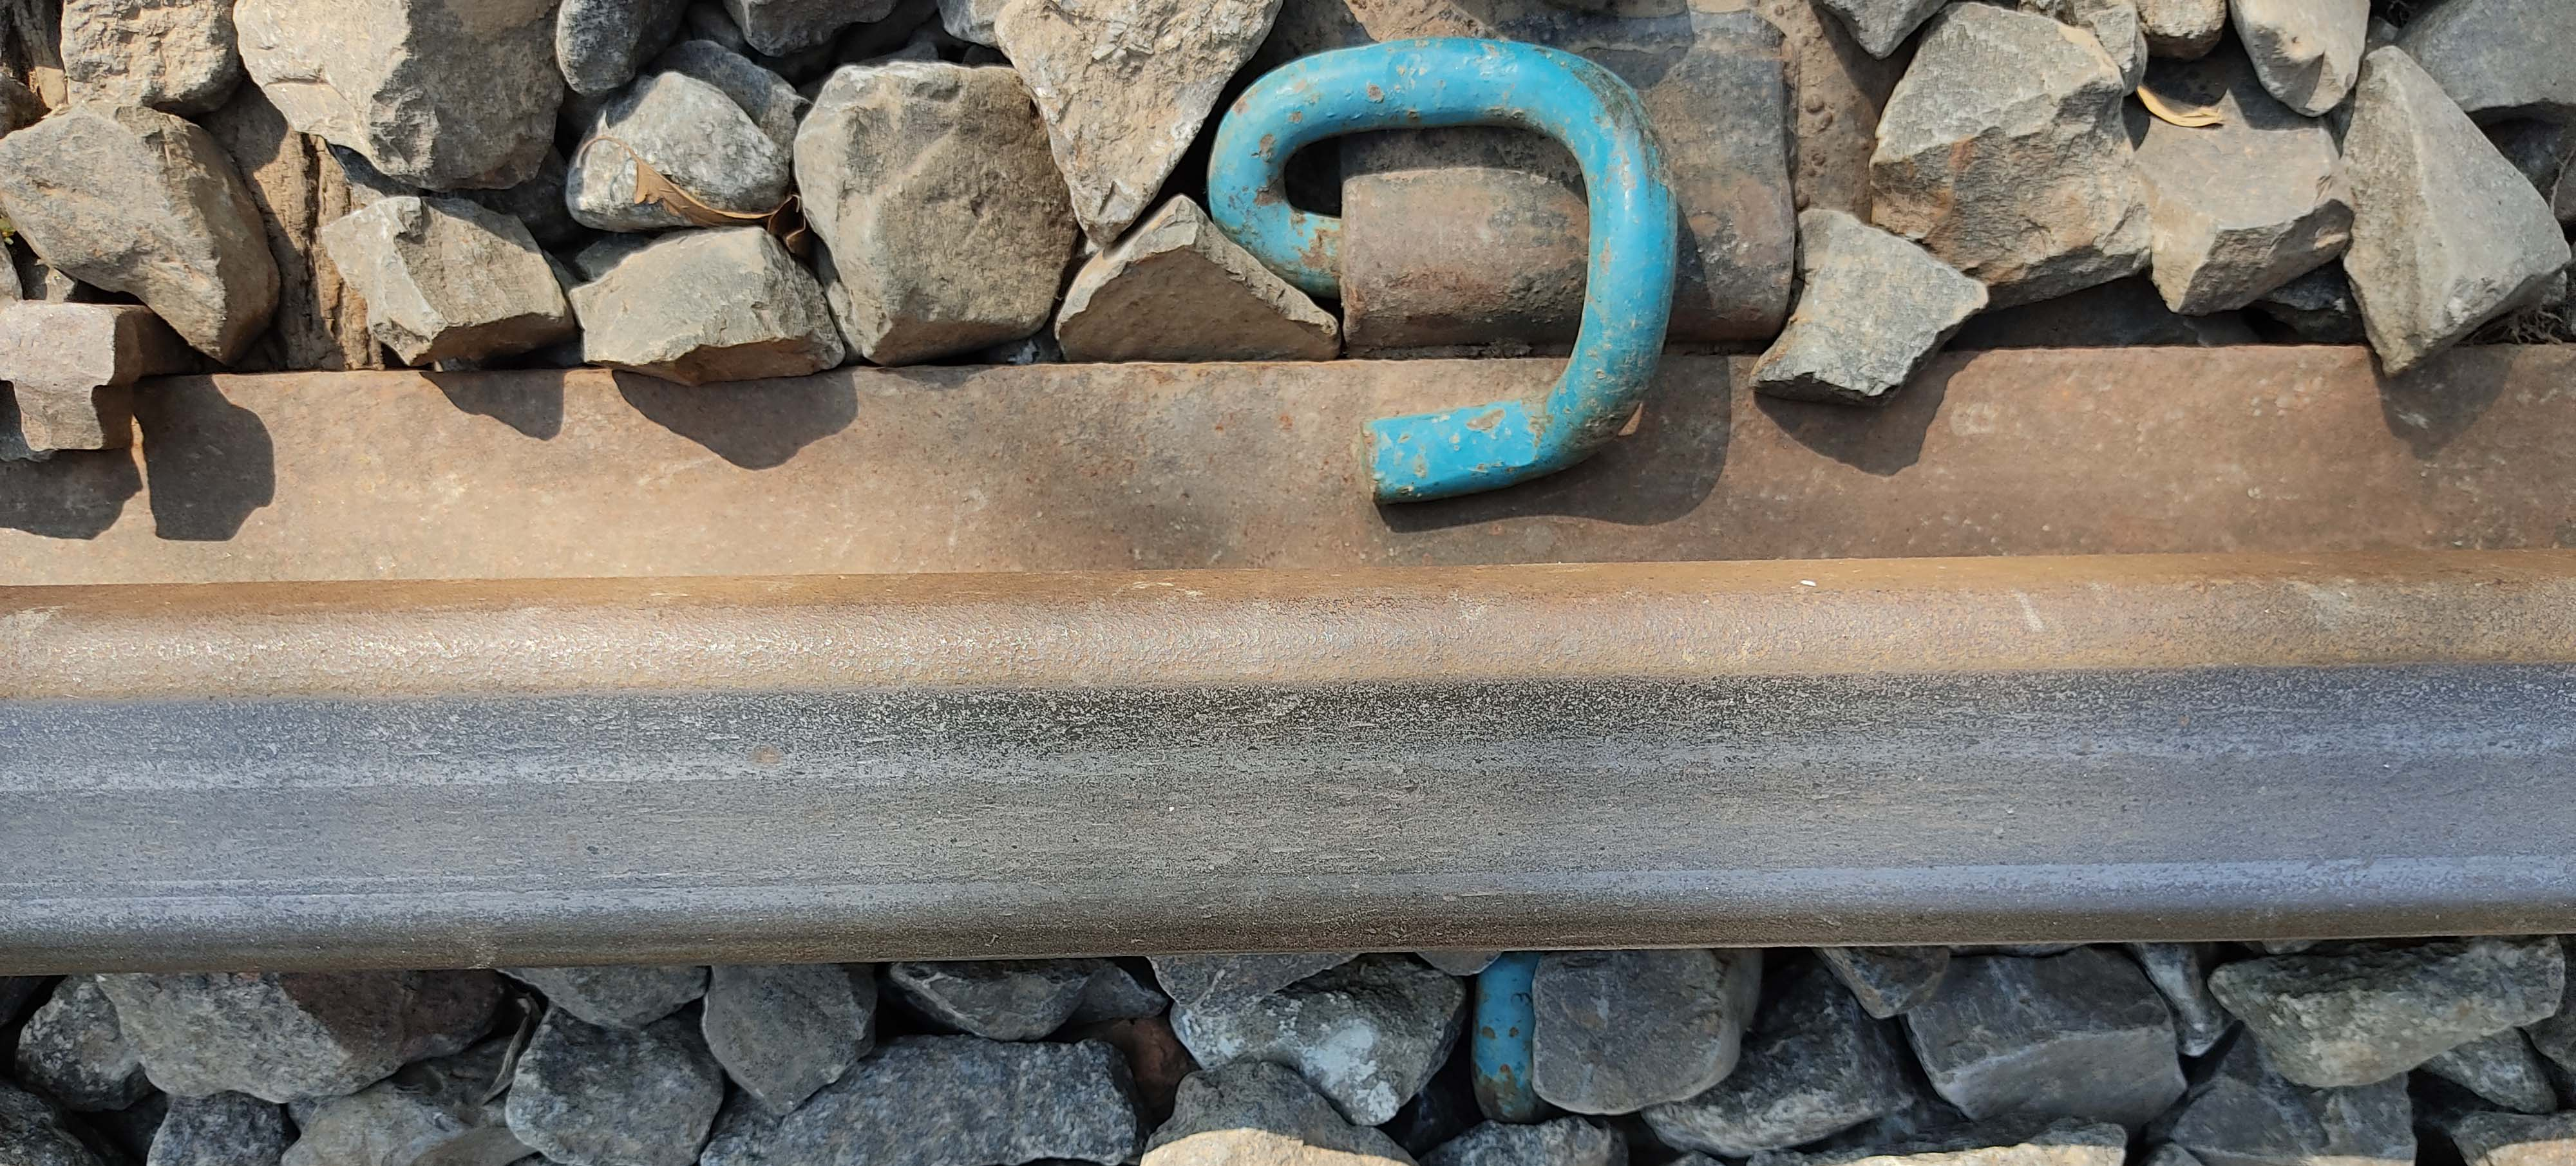error1: (1194, 20, 1745, 568)
